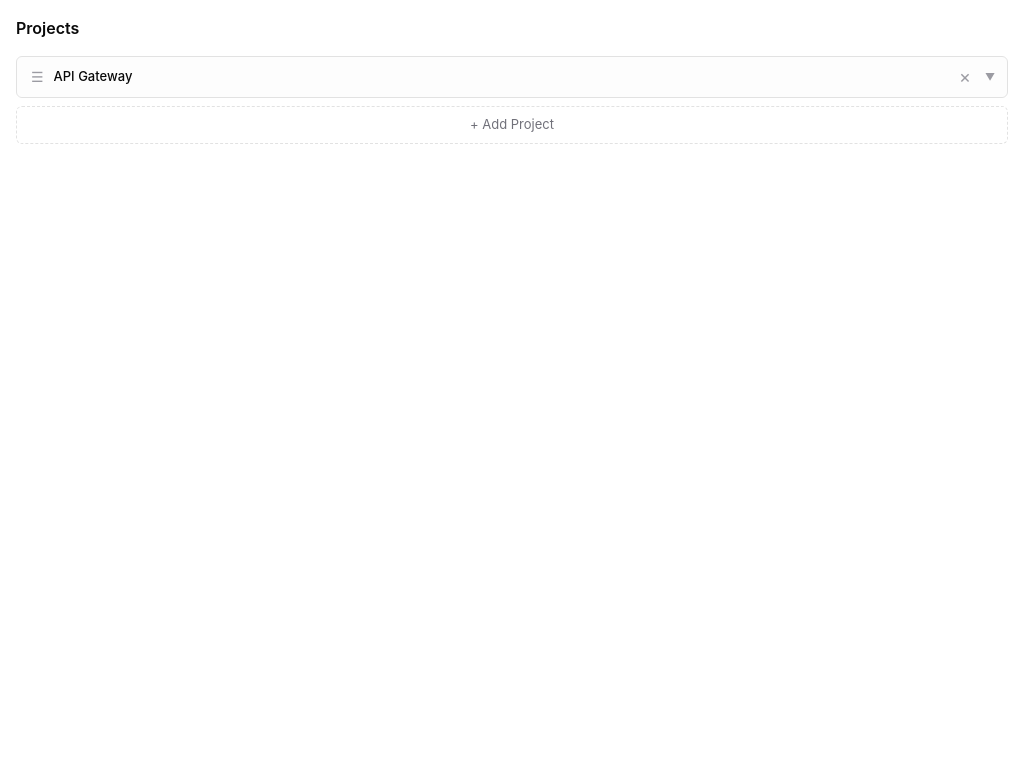
Test case: ProjectsEditor › bullet visibility/lock toggles (RES-106 refined) › shows eye+lock toggles on bullet rows, not on the parent row
What coordinates should you click on to do the following:
click the button "☰ API Gateway × ▼"
I would click on:
 (93, 76)
Its box is x1=17 y1=57 x2=1007 y2=97.
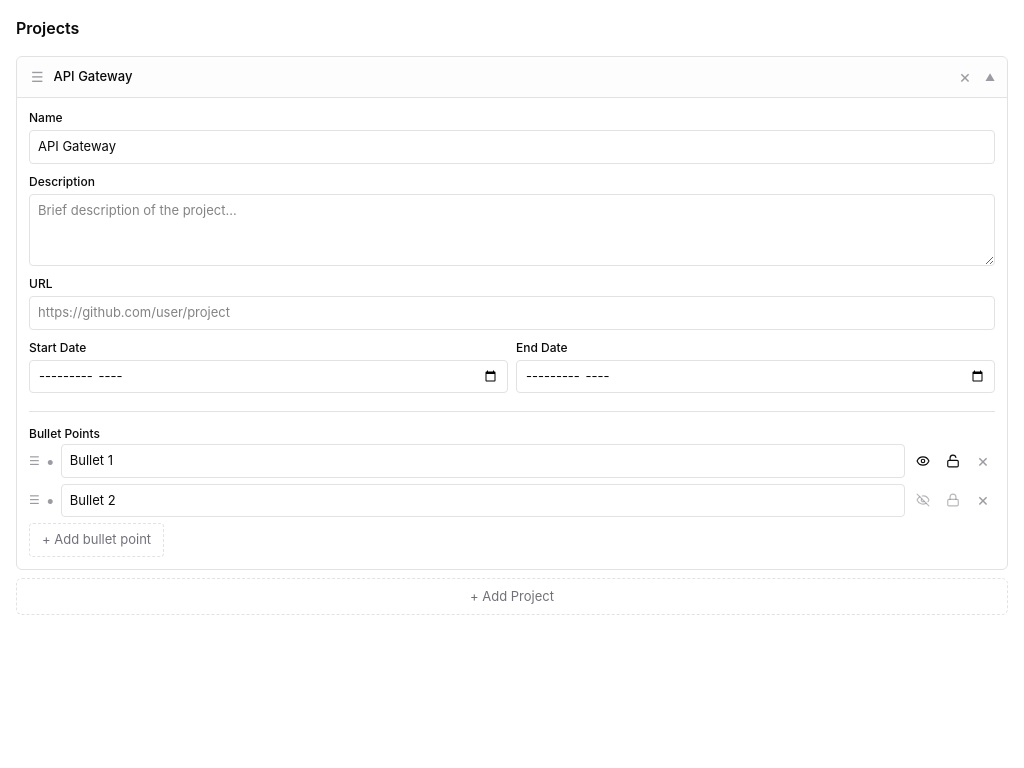
Result: the number of buttons with test id "bullet-eye-toggle" is 2 at x1=911 y1=449 x2=935 y2=473; x1=911 y1=488 x2=935 y2=512
Result: the number of buttons with test id "bullet-lock-toggle" is 2 at x1=941 y1=449 x2=965 y2=473; x1=941 y1=488 x2=965 y2=512
Result: the number of icons with class "lucide-eye" is 1 at x1=916 y1=454 x2=930 y2=468
